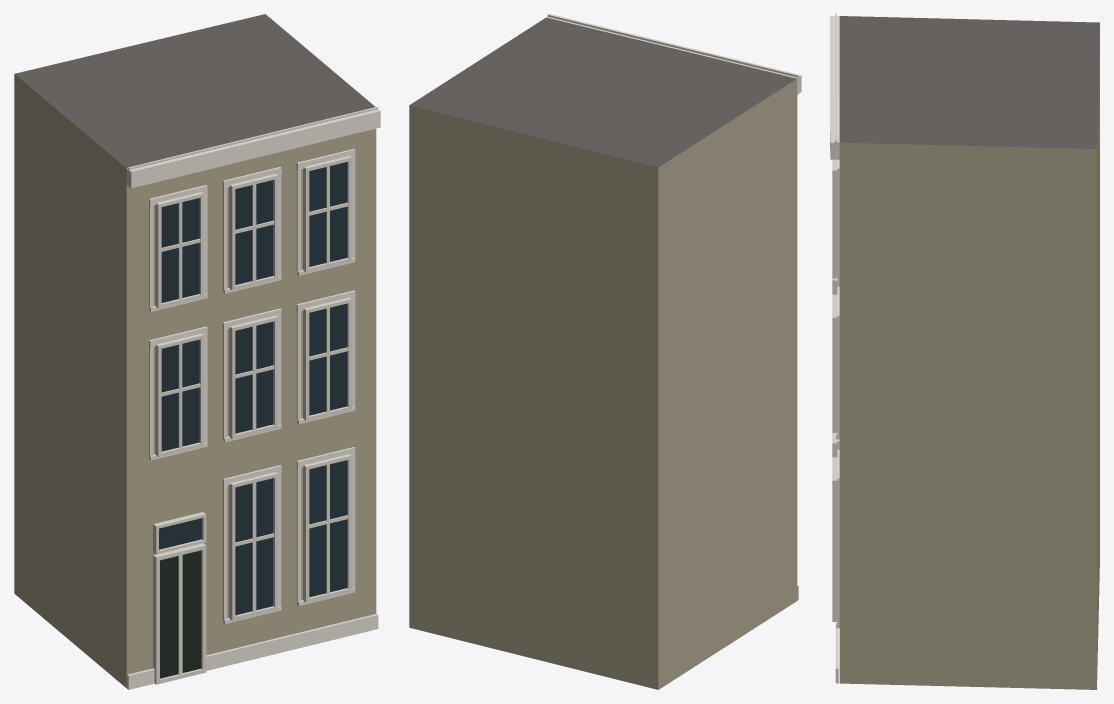
3 views of the same model, side by side, from view 1: azimuth 30°, elevation 25°; view 2: azimuth 150°, elevation 25°; view 3: azimuth 270°, elevation 25° (orthographic). The views are drawn at different scales.
Visible parts, largest first — view 1: spec-0363100012177361; view 2: spec-0363100012177361; view 3: spec-0363100012177361.
Boxes of the visible parts, box(x1,y1,x2,y2) form: spec-0363100012177361: box(14, 14, 380, 689); spec-0363100012177361: box(409, 14, 801, 689); spec-0363100012177361: box(830, 14, 1099, 689).
Size of the model in its own units: 5.83 by 11.07 by 4.99.
